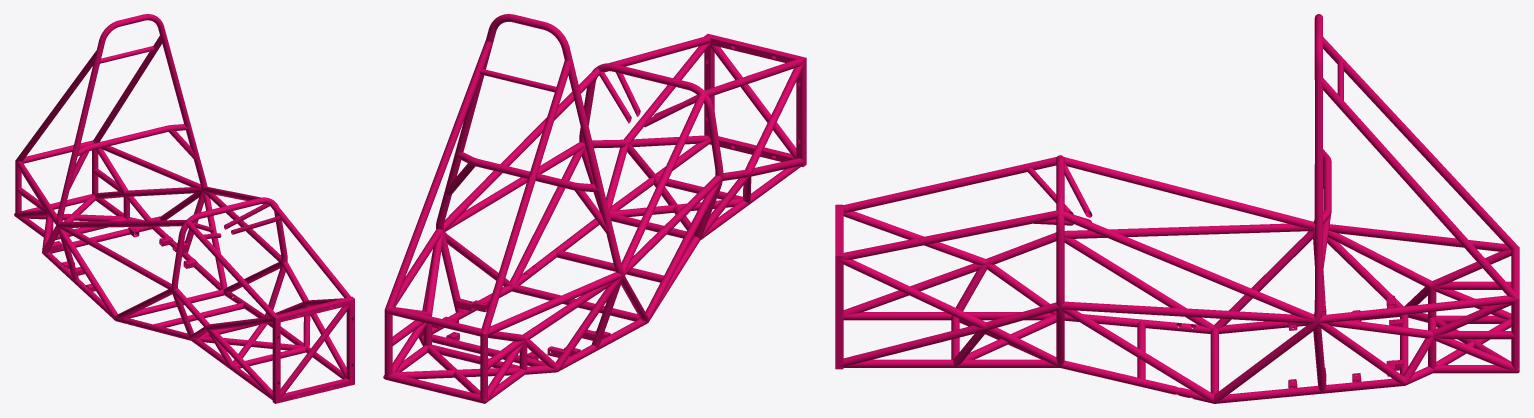
Rendered from UA_26_Chassis_Assembly__UA_26_Chassis_1.dae.
3 renders of one model, left to right at view 1: azimuth 30°, elevation 25°; view 2: azimuth 150°, elevation 25°; view 3: azimuth 270°, elevation 25°, orthographic. The views are drawn at different scales.
Parts seen in each view (by area): view 1: node0; view 2: node0; view 3: node0.
Part boxes in pixels (left/top/right/bottom): node0: left=14, top=14, right=354, bottom=403; node0: left=383, top=14, right=806, bottom=403; node0: left=835, top=14, right=1519, bottom=403.
Bounding box in the file's own units: 0.697 × 1.16 × 2.08.
